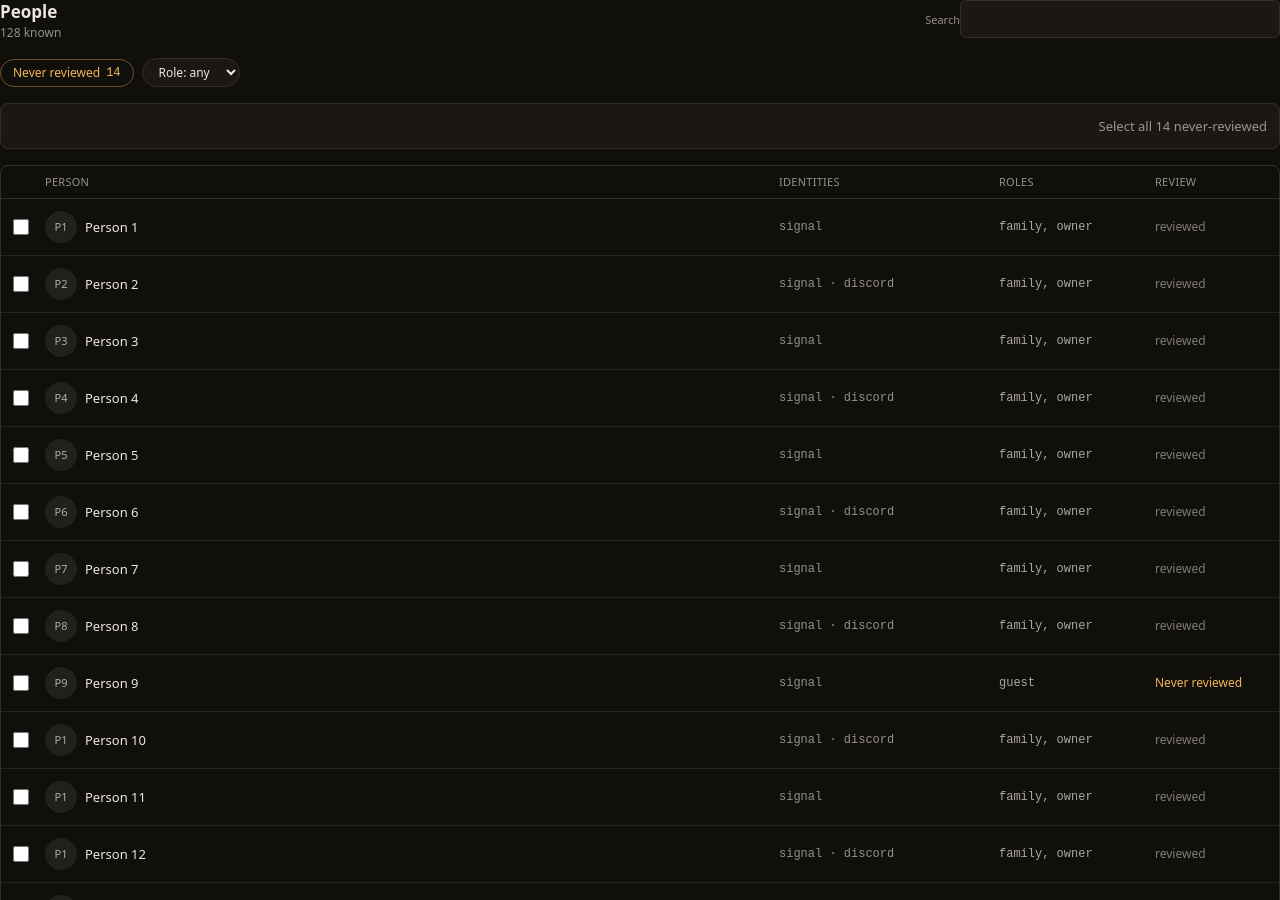
Test case: the people list › offers an empty state, not a blank table, when the search matches nobody
The image size is (1280, 900).
Expected: the link "Person 1" is shown, [85,217,138,237]
Type "nobody at all" into the field labelled "Search" at point(1120, 19), box [960,0,1279,38]
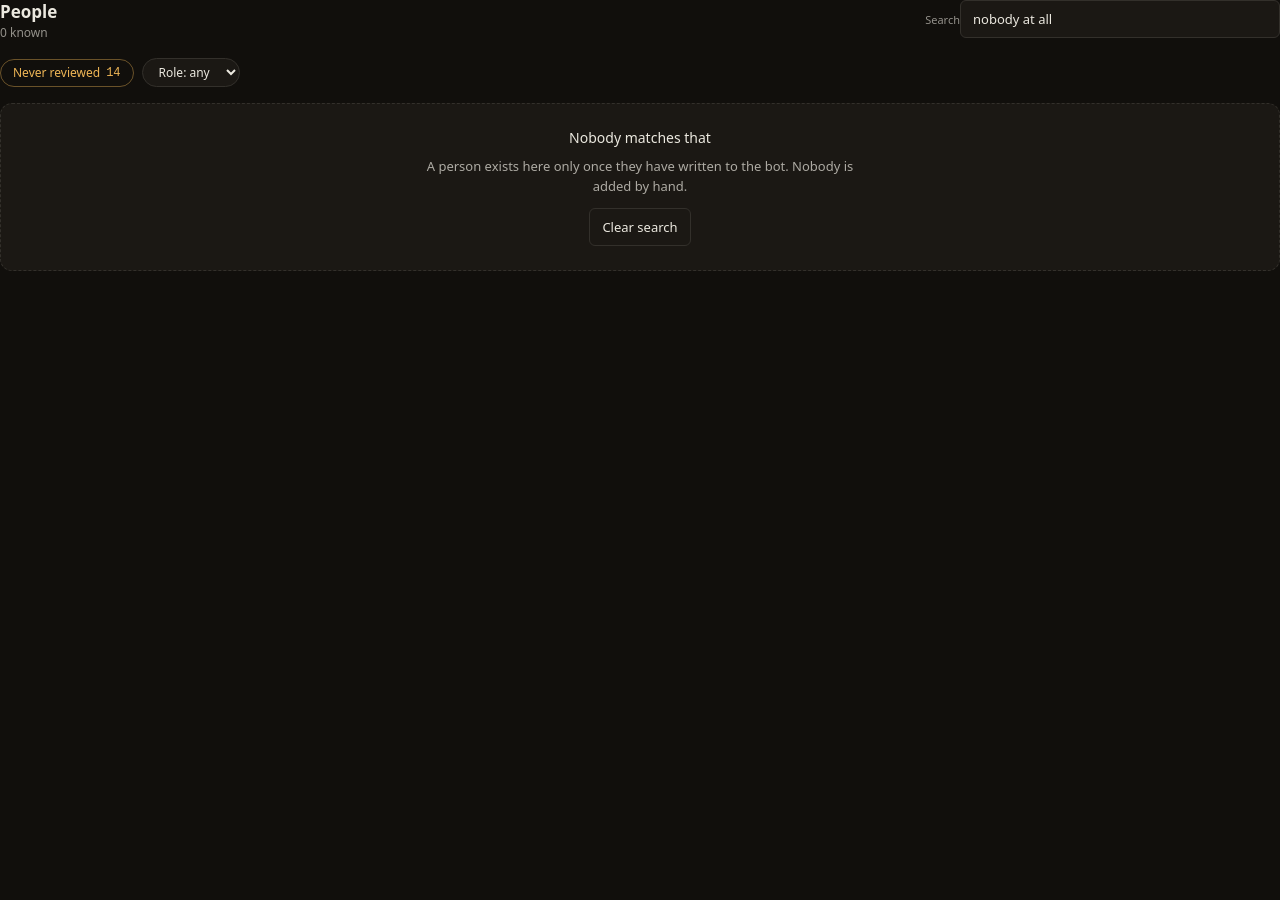
Expected: the text "Nobody matches that" is shown, [569,128,711,147]
Expected: the link "Person 1" is gone
Click the button "Clear search" at point(640, 227), box [589,208,691,246]
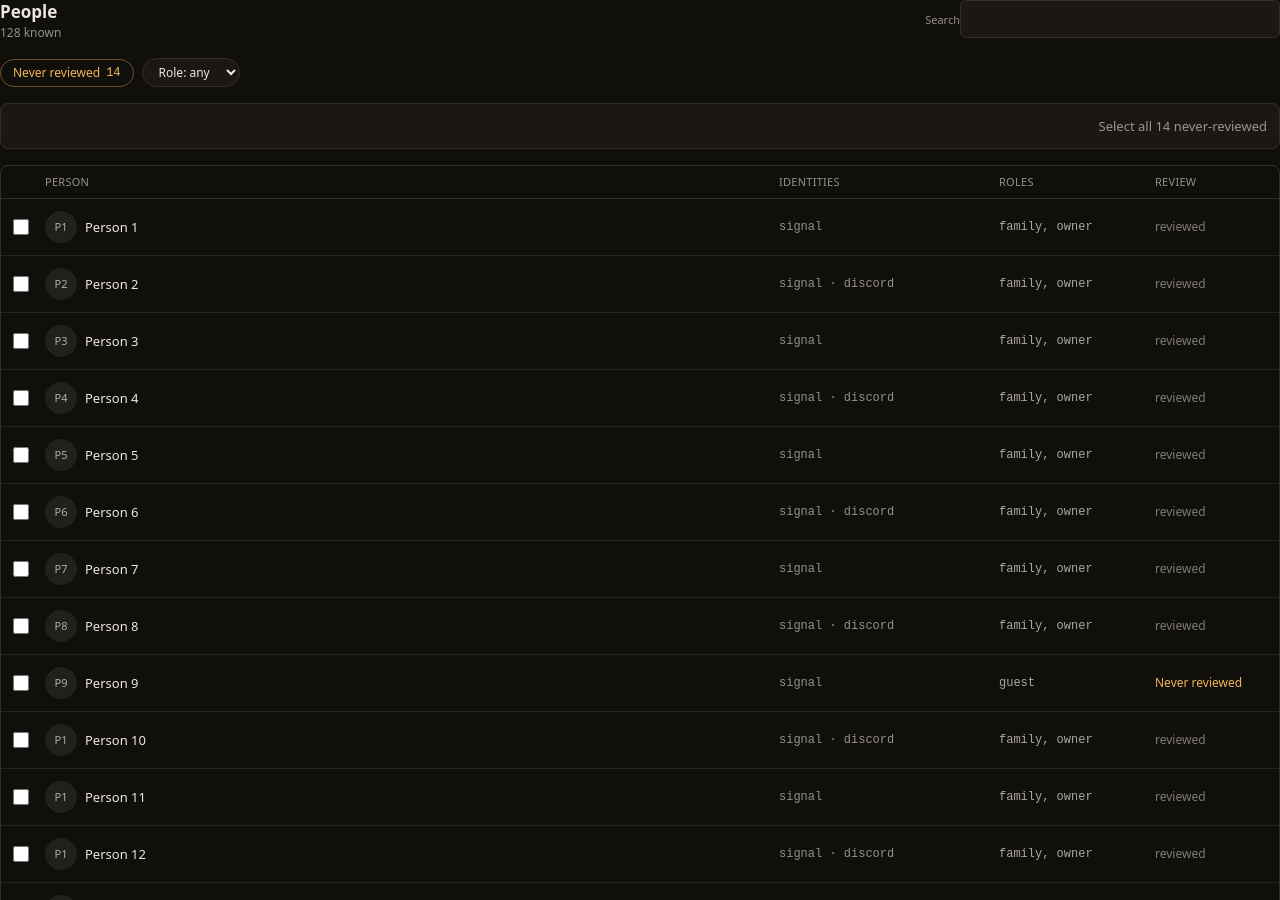
Expected: the link "Person 1" is shown, [85,217,138,237]
